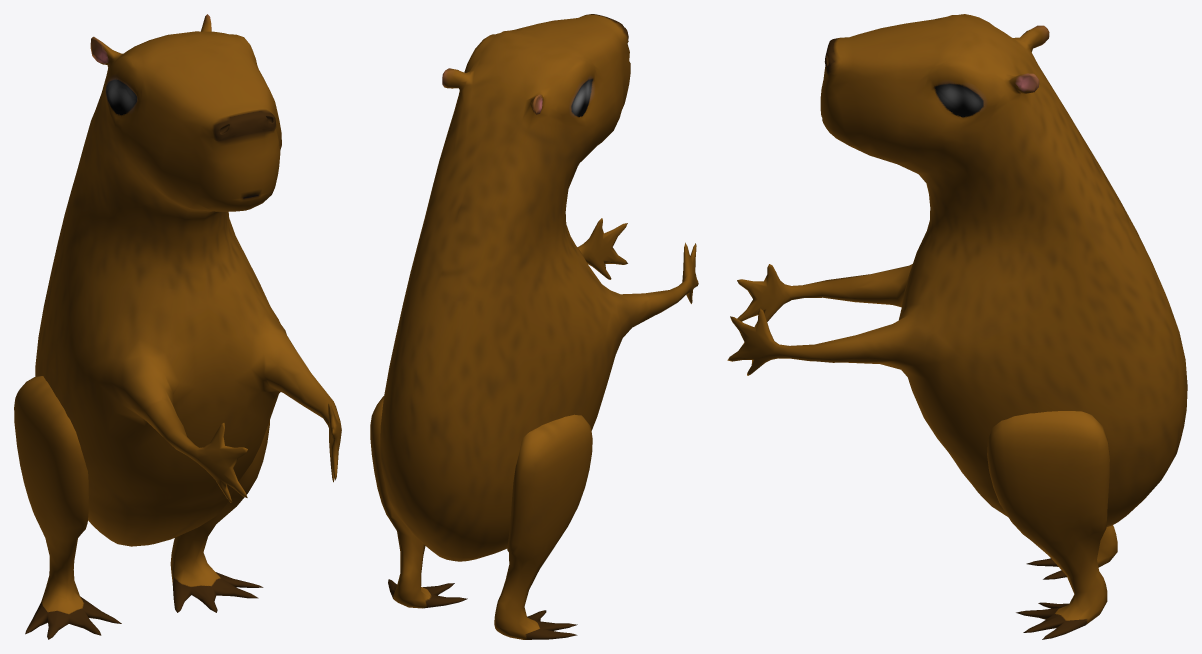
Rendered from capy.glb.
3 renders of one model, left to right at view 1: azimuth 30°, elevation 25°; view 2: azimuth 150°, elevation 25°; view 3: azimuth 270°, elevation 25°, orthographic. The views are drawn at different scales.
Visible parts, largest first — view 1: old_capy.001; view 2: old_capy.001; view 3: old_capy.001.
Part boxes in pixels (bbox=[...]): old_capy.001: bbox=[14, 14, 341, 639]; old_capy.001: bbox=[370, 14, 698, 639]; old_capy.001: bbox=[727, 14, 1187, 639].
Size of the model in its own units: 0.7868 by 2.03 by 1.51.
1 material, 1 textured.
